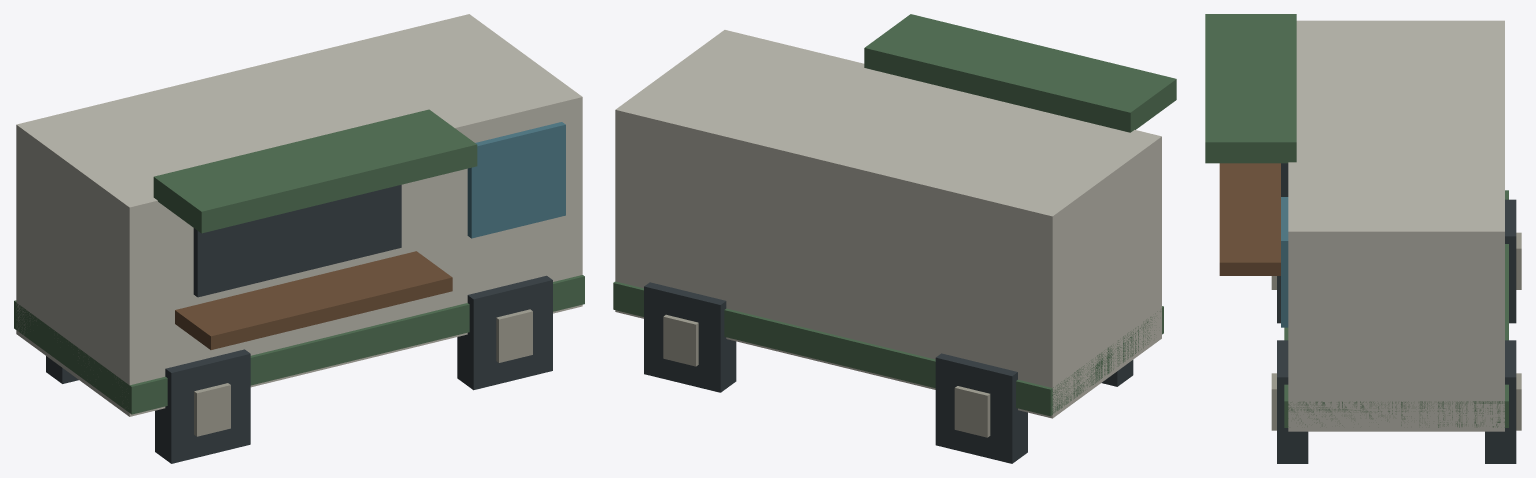
Rendered from food-truck.glb.
The picture shows the model from 3 angles, left to right: view 1: azimuth 30°, elevation 25°; view 2: azimuth 150°, elevation 25°; view 3: azimuth 270°, elevation 25°; orthographic projection. The views are drawn at different scales.
Parts seen in each view (by area): view 1: food-truck; view 2: food-truck; view 3: food-truck.
Boxes of the visible parts, box(x1,y1,x2,y2) form: food-truck: box(14, 14, 584, 463); food-truck: box(613, 14, 1176, 463); food-truck: box(1205, 14, 1521, 463).
Size of the model in its own units: 1 by 0.5938 by 0.6338.
